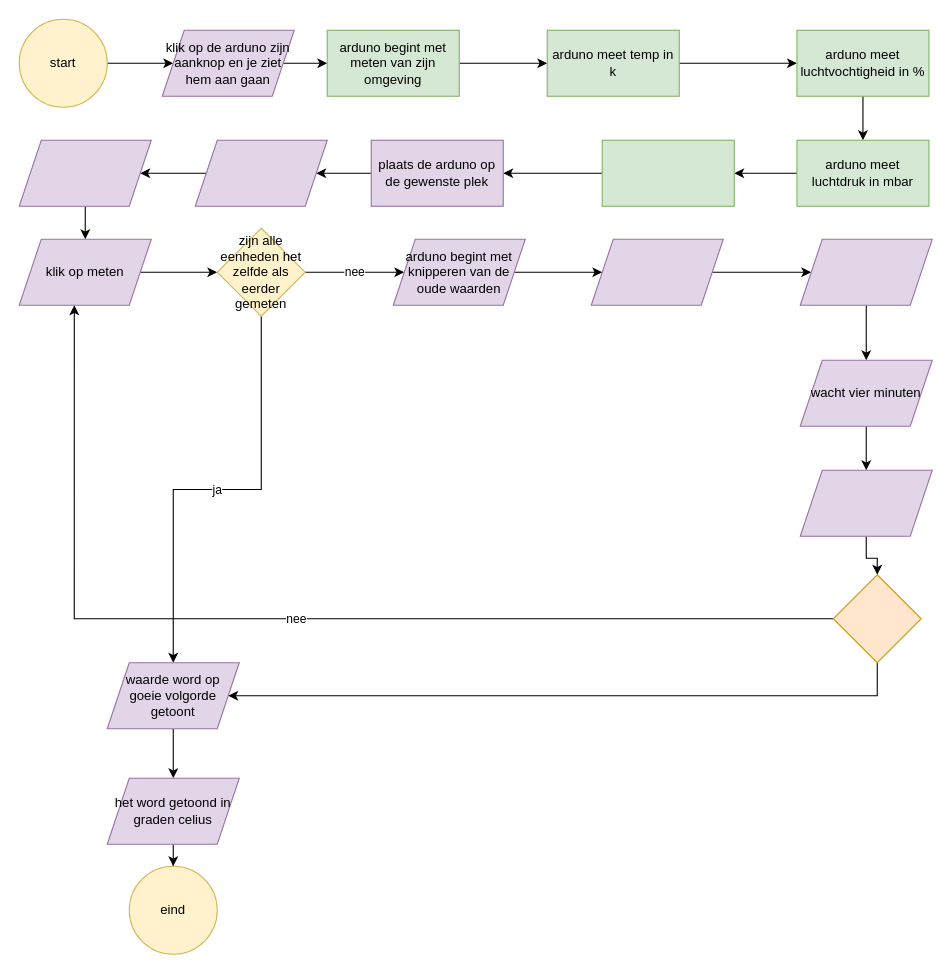
Some shapes in this 952 by 974 pixel diagram are drawn without their labels. The box of each missing label's shape, as (x1, y1, x2, y2) in pixels:
arduno laat zien dat die 4 min slaapt en knipperd: (194, 139, 327, 206)
arduno meet licht in lux: (601, 139, 734, 206)
de oude waarde word verbeterd en hij stiop met knipperen: (799, 238, 932, 305)
is de waarde hetzelfede?: (832, 574, 921, 663)
na 4 min geeft de arduno aan dat die weer kan meten: (18, 139, 151, 206)
waarde word getoont: (799, 469, 932, 536)
wacht 4 min: (590, 238, 723, 305)
